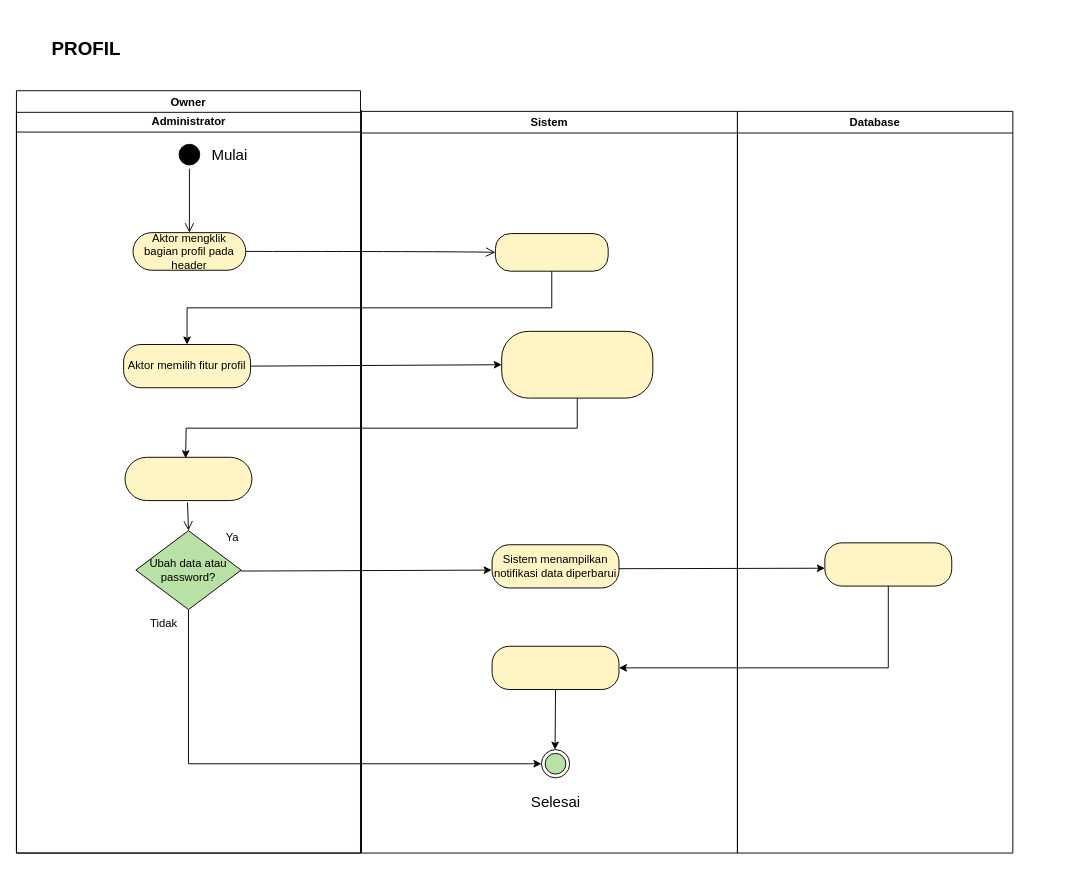
Image size: 1073x870. Some labels were removed from this diagram. Each missing label, with the centre of its shape:
"Aktor dapat mengubah data pribadi atau password" goes at [188,478].
"Perubahan data tersimpan" goes at [888,564].
"Sistem menampilkan detail profil dan button ubah profil atau password" goes at [577,364].
"Sistem menampilkan dropdown pilih profil" goes at [551,252].
"Tampil data terbaru" goes at [555,667].
